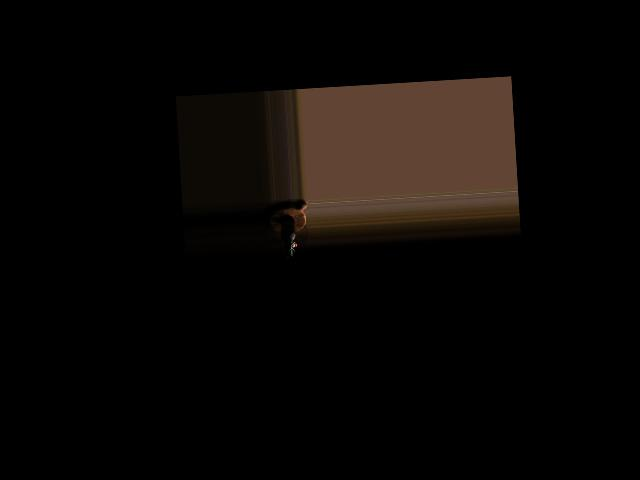beer: (280, 216, 296, 258)
